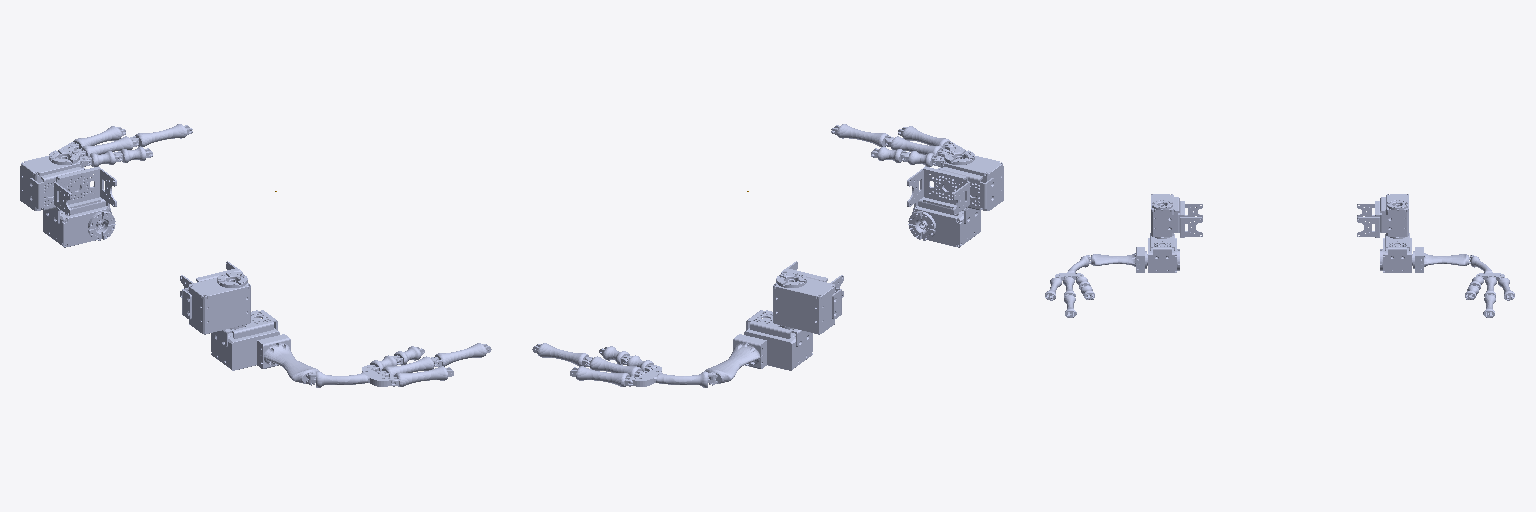
--- Render facts (derived) ---
3 views of the same robot in one strip: view 1: azimuth 30°, elevation 25°; view 2: azimuth 150°, elevation 25°; view 3: azimuth 270°, elevation 25° (orthographic).
Model turtle_assem.SLDASM with 22 links and 21 joints (20 revolute, 1 fixed), rooted at base_footprint, posed all joints at 0.
Links seen in each view (by area): view 1: shoulder_r1, motor2, shoulder_r2, motor3, humerus, finger_1, hand, finger_2_distal, finger_r2_tip, finger_r2_forefinger, finger_r1, finger_2; view 2: motor2, shoulder_r1, motor3, shoulder_r2, shoulder_r3, finger_r1, hand_r, finger_r2_tip, finger_2_distal, finger_2, finger_1, finger_r2_forefinger; view 3: motor2, shoulder_r1, motor3, shoulder_r2, humerus, shoulder_r3.
Link boxes in pixels (box(x1,y1,x2,y2)): shoulder_r1: box(20, 149, 116, 215); motor2: box(180, 261, 250, 334); shoulder_r2: box(43, 191, 115, 247); motor3: box(211, 310, 279, 370); humerus: box(257, 334, 318, 385); finger_1: box(389, 366, 453, 386); hand: box(337, 365, 395, 386); finger_2_distal: box(432, 343, 491, 366); finger_r2_tip: box(130, 124, 192, 146); finger_r2_forefinger: box(75, 136, 138, 156); finger_r1: box(68, 126, 125, 149); finger_2: box(378, 356, 437, 376); motor2: box(907, 149, 1003, 215); shoulder_r1: box(773, 261, 843, 334); motor3: box(908, 191, 980, 247); shoulder_r2: box(744, 310, 812, 370); shoulder_r3: box(705, 334, 766, 385); finger_r1: box(570, 366, 634, 386); hand_r: box(628, 365, 686, 386); finger_r2_tip: box(532, 343, 591, 366); finger_2_distal: box(831, 124, 893, 146); finger_2: box(885, 136, 948, 156); finger_1: box(898, 126, 955, 149); finger_r2_forefinger: box(586, 356, 645, 376); motor2: box(1151, 194, 1202, 238); shoulder_r1: box(1357, 194, 1408, 238); motor3: box(1145, 233, 1179, 272); shoulder_r2: box(1380, 233, 1414, 272); humerus: box(1089, 247, 1144, 272); shoulder_r3: box(1415, 247, 1470, 272).
Bounding box of the posed robot: 0.279 × 0.7069 × 0.0957 m (x, y, z).
Meshes: 21 distinct files referenced, 20 mesh visuals loaded (20 OBJ); not drawn: 1 (reference not matched to a file when rendering).

URDF robot description (turtle_assem.SLDASM):
<?xml version="1.0" encoding="utf-8"?>
<!-- This URDF was automatically created by SolidWorks to URDF Exporter! Originally created by Stephen Brawner ([email redacted]) 
     Commit Version: 1.6.0-4-g7f85cfe  Build Version: 1.6.7995.38578
     For more information, please see http://wiki.ros.org/sw_urdf_exporter -->
<robot
  name="turtle_assem.SLDASM">
<link name="base_footprint">
    <visual>
        <origin xyz="0 0 0" rpy="0 0 0" />
        <geometry>
            <box size="0.001 0.001 0.001" />
        </geometry>
    </visual>
</link>

<joint name="base_footprint_joint" type="fixed">
    <origin xyz="0 0 0.001" rpy="0 0 0" />
    <parent link="base_footprint"/>
    <child link="base_link" />
</joint>
  <link
    name="base_link">
    <inertial>
      <origin
        xyz="-0.139793726521197 3.02888783168269E-05 -0.000965795045126814"
        rpy="0 0 0" />
      <mass
        value="2.00197672334847" />
      <inertia
        ixx="0.00227645142398132"
        ixy="-7.24063312675915E-08"
        ixz="4.6321836014872E-05"
        iyy="0.00582165925853669"
        iyz="-1.13497000154781E-08"
        izz="0.00642229159778174" />
    </inertial>
    <visual>
      <origin
        xyz="0 0 0"
        rpy="0 0 0" />
      <geometry>
        <mesh
          filename="meshes/visual/base_link.obj" />
      </geometry>
      <material
        name="">
        <color
          rgba="0.792156862745098 0.819607843137255 0.933333333333333 1" />
      </material>
    </visual>
    <collision>
      <origin
        xyz="0 0 0"
        rpy="0 0 0" />
      <geometry>
        <mesh
          filename="meshes/visual/base_link.obj" />
      </geometry>
    </collision>
  </link>
  <link
    name="motor2">
    <inertial>
      <origin
        xyz="-0.0424262655289384 -6.85812987433441E-05 -0.0101596852891025"
        rpy="0 0 0" />
      <mass
        value="0.19959000592975" />
      <inertia
        ixx="0.000102253284910249"
        ixy="-1.32510984805803E-16"
        ixz="-1.734362895959E-07"
        iyy="8.76386977156673E-05"
        iyz="7.8494101788163E-07"
        izz="4.30364248461497E-05" />
    </inertial>
    <visual>
      <origin
        xyz="0 0 0"
        rpy="0 0 0" />
      <geometry>
        <mesh
          filename="meshes/visual/motor2.obj" />
      </geometry>
      <material
        name="">
        <color
          rgba="0.792156862745098 0.819607843137255 0.933333333333333 1" />
      </material>
    </visual>
    <collision>
      <origin
        xyz="0 0 0"
        rpy="0 0 0" />
      <geometry>
        <mesh
          filename="meshes/visual/motor2.obj" />
      </geometry>
    </collision>
  </link>
  <joint
    name="shoulder z"
    type="revolute">
    <origin
      xyz="-0.15476 -0.11857 -0.021134"
      rpy="1.5708 0 1.5708" />
    <parent
      link="base_link" />
    <child
      link="motor2" />
    <axis
      xyz="0 0 -1" />
    <limit
      lower="0"
      upper="0"
      effort="0"
      velocity="0" />
  </joint>
  <link
    name="motor3">
    <inertial>
      <origin
        xyz="0.015918980505266 -9.74602204775188E-05 -0.0443741056383084"
        rpy="0 0 0" />
      <mass
        value="0.140448500483326" />
      <inertia
        ixx="2.95730512668569E-05"
        ixy="7.94688346301715E-07"
        ixz="-6.45820265187646E-16"
        iyy="5.57645957313895E-05"
        iyz="1.32512139507554E-16"
        izz="6.70729874856918E-05" />
    </inertial>
    <visual>
      <origin
        xyz="0 0 0"
        rpy="0 0 0" />
      <geometry>
        <mesh
          filename="meshes/visual/motor3.obj" />
      </geometry>
      <material
        name="">
        <color
          rgba="0.792156862745098 0.819607843137255 0.933333333333333 1" />
      </material>
    </visual>
    <collision>
      <origin
        xyz="0 0 0"
        rpy="0 0 0" />
      <geometry>
        <mesh
          filename="meshes/visual/motor3.obj" />
      </geometry>
    </collision>
  </link>
  <joint
    name="shoulder y"
    type="revolute">
    <origin
      xyz="-0.058 -0.000260560176065711 0.000160560176065749"
      rpy="-1.5707963267949 -1.5707963267949 0" />
    <parent
      link="motor2" />
    <child
      link="motor3" />
    <axis
      xyz="0 0 -1" />
    <limit
      lower="0"
      upper="0"
      effort="0"
      velocity="0" />
  </joint>
  <link
    name="humerus">
    <inertial>
      <origin
        xyz="-2.09604651635331E-07 -4.14201045291496E-06 -0.0577417238356416"
        rpy="0 0 0" />
      <mass
        value="0.0297093647993242" />
      <inertia
        ixx="2.19135183187944E-05"
        ixy="1.58992758201897E-10"
        ixz="-4.83789905888679E-10"
        iyy="2.29080017285897E-05"
        iyz="-6.32678182519546E-09"
        izz="3.01863714360775E-06" />
    </inertial>
    <visual>
      <origin
        xyz="0 0 0"
        rpy="0 0 0" />
      <geometry>
        <mesh
          filename="meshes/visual/humerus.obj" />
      </geometry>
      <material
        name="">
        <color
          rgba="0.796078431372549 0.823529411764706 0.937254901960784 1" />
      </material>
    </visual>
    <collision>
      <origin
        xyz="0 0 0"
        rpy="0 0 0" />
      <geometry>
        <mesh
          filename="meshes/visual/humerus.obj" />
      </geometry>
    </collision>
  </link>
  <joint
    name="shoulder x"
    type="revolute">
    <origin
      xyz="0.031 -0.000260560176065627 -0.0522394398239343"
      rpy="1.5707963267949 0 -3.14159265358979" />
    <parent
      link="motor3" />
    <child
      link="humerus" />
    <axis
      xyz="0 0 -1" />
    <limit
      lower="0"
      upper="0"
      effort="0"
      velocity="0" />
  </joint>
  <link
    name="forearm">
    <inertial>
      <origin
        xyz="-0.0104556538387043 -0.00732106376965685 -0.00103994965613724"
        rpy="0 0 0" />
      <mass
        value="0.00321747849832593" />
      <inertia
        ixx="1.18261404745199E-07"
        ixy="-6.23743859697054E-08"
        ixz="5.16619482245768E-09"
        iyy="1.63668329624826E-07"
        iyz="3.61598163135351E-09"
        izz="1.95759827683889E-07" />
    </inertial>
    <visual>
      <origin
        xyz="0 0 0"
        rpy="0 0 0" />
      <geometry>
        <mesh
          filename="meshes/visual/forearm.obj" />
      </geometry>
      <material
        name="">
        <color
          rgba="0.796078431372549 0.823529411764706 0.937254901960784 1" />
      </material>
    </visual>
    <collision>
      <origin
        xyz="0 0 0"
        rpy="0 0 0" />
      <geometry>
        <mesh
          filename="meshes/visual/forearm.obj" />
      </geometry>
    </collision>
  </link>
  <joint
    name="elbow"
    type="revolute">
    <origin
      xyz="0 -0.000900000000000414 -0.111663439823934"
      rpy="1.57079632679489 0 0" />
    <parent
      link="humerus" />
    <child
      link="forearm" />
    <axis
      xyz="0 0 -1" />
    <limit
      lower="0"
      upper="0"
      effort="0"
      velocity="0" />
  </joint>
  <link
    name="hand">
    <inertial>
      <origin
        xyz="0.0080306069427552 2.33292050463019E-05 0.029798536307319"
        rpy="0 0 0" />
      <mass
        value="0.007458869784901" />
      <inertia
        ixx="1.52002275996681E-06"
        ixy="-6.59703378789213E-10"
        ixz="-1.16207829775553E-07"
        iyy="2.04366986037998E-06"
        iyz="-1.01722400777519E-09"
        izz="5.96155881516618E-07" />
    </inertial>
    <visual>
      <origin
        xyz="0 0 0"
        rpy="0 0 0" />
      <geometry>
        <mesh
          filename="meshes/visual/hand.obj" />
      </geometry>
      <material
        name="">
        <color
          rgba="0.796078431372549 0.823529411764706 0.937254901960784 1" />
      </material>
    </visual>
    <collision>
      <origin
        xyz="0 0 0"
        rpy="0 0 0" />
      <geometry>
        <mesh
          filename="meshes/visual/hand.obj" />
      </geometry>
    </collision>
  </link>
  <joint
    name="forearm twist"
    type="revolute">
    <origin
      xyz="-0.0225271689707654 -0.0157726554164387 -0.000875052936502335"
      rpy="-1.5707963267949 0 2.18166156499291" />
    <parent
      link="forearm" />
    <child
      link="hand" />
    <axis
      xyz="0 0 -1" />
    <limit
      lower="0"
      upper="0"
      effort="0"
      velocity="0" />
  </joint>
  <link
    name="finger_1">
    <inertial>
      <origin
        xyz="-0.0321164818789987 1.08442855335789E-06 -5.17289318728853E-05"
        rpy="0 0 0" />
      <mass
        value="0.00815897503529205" />
      <inertia
        ixx="1.87780898922872E-07"
        ixy="2.71364849759439E-10"
        ixz="1.82790332131999E-08"
        iyy="3.11059490382985E-06"
        iyz="1.18025458925446E-11"
        izz="3.08309120489149E-06" />
    </inertial>
    <visual>
      <origin
        xyz="0 0 0"
        rpy="0 0 0" />
      <geometry>
        <mesh
          filename="meshes/visual/finger_1.obj" />
      </geometry>
      <material
        name="">
        <color
          rgba="0.796078431372549 0.823529411764706 0.937254901960784 1" />
      </material>
    </visual>
    <collision>
      <origin
        xyz="0 0 0"
        rpy="0 0 0" />
      <geometry>
        <mesh
          filename="meshes/visual/finger_1.obj" />
      </geometry>
    </collision>
  </link>
  <joint
    name="finger_pinky"
    type="revolute">
    <origin
      xyz="0.00321549122081088 2.49470634976906E-05 0.0577433280816197"
      rpy="-3.14159265358976 1.13186331409036 -3.14159265358976" />
    <parent
      link="hand" />
    <child
      link="finger_1" />
    <axis
      xyz="0 0 -1" />
    <limit
      lower="0"
      upper="0"
      effort="0"
      velocity="0" />
  </joint>
  <link
    name="finger_2">
    <inertial>
      <origin
        xyz="-0.0321166531944218 1.08256056374767E-06 -5.16411525376403E-05"
        rpy="0 0 0" />
      <mass
        value="0.0081590932001358" />
      <inertia
        ixx="1.87785546000215E-07"
        ixy="2.69838531716313E-10"
        ixz="1.82937643823131E-08"
        iyy="3.11063635201715E-06"
        iyz="1.1856166063233E-11"
        izz="3.08312138570173E-06" />
    </inertial>
    <visual>
      <origin
        xyz="0 0 0"
        rpy="0 0 0" />
      <geometry>
        <mesh
          filename="meshes/visual/finger_2.obj" />
      </geometry>
      <material
        name="">
        <color
          rgba="0.796078431372549 0.823529411764706 0.937254901960784 1" />
      </material>
    </visual>
    <collision>
      <origin
        xyz="0 0 0"
        rpy="0 0 0" />
      <geometry>
        <mesh
          filename="meshes/visual/finger_2.obj" />
      </geometry>
    </collision>
  </link>
  <joint
    name="finger_middle"
    type="revolute">
    <origin
      xyz="0.0164868587195784 2.49470634976073E-05 0.0455536453363703"
      rpy="-3.14159265358977 0.93746386773365 -3.14159265358977" />
    <parent
      link="hand" />
    <child
      link="finger_2" />
    <axis
      xyz="0 0 -1" />
    <limit
      lower="0"
      upper="0"
      effort="0"
      velocity="0" />
  </joint>
  <link
    name="finger_2_distal">
    <inertial>
      <origin
        xyz="-0.0322166553312513 5.16422163291397E-05 1.0825842174933E-06"
        rpy="0 0 0" />
      <mass
        value="0.00815890339458729" />
      <inertia
        ixx="1.87777667518928E-07"
        ixy="-1.82749844267169E-08"
        ixz="2.70942096550549E-10"
        iyy="3.08306155456235E-06"
        iyz="-1.12923456759871E-11"
        izz="3.11057086738207E-06" />
    </inertial>
    <visual>
      <origin
        xyz="0 0 0"
        rpy="0 0 0" />
      <geometry>
        <mesh
          filename="meshes/visual/finger_2_distal.obj" />
      </geometry>
      <material
        name="">
        <color
          rgba="0.796078431372549 0.823529411764706 0.937254901960784 1" />
      </material>
    </visual>
    <collision>
      <origin
        xyz="0 0 0"
        rpy="0 0 0" />
      <geometry>
        <mesh
          filename="meshes/visual/finger_2_distal.obj" />
      </geometry>
    </collision>
  </link>
  <joint
    name="finger_2_knuckle"
    type="revolute">
    <origin
      xyz="-0.0641619999999999 0 0"
      rpy="-1.5707963267949 0 0" />
    <parent
      link="finger_2" />
    <child
      link="finger_2_distal" />
    <axis
      xyz="0 -1 0" />
    <limit
      lower="0"
      upper="0"
      effort="0"
      velocity="0" />
  </joint>
  <link
    name="thumb">
    <inertial>
      <origin
        xyz="0.0170956470251904 1.95594878975303E-06 9.33741808846755E-05"
        rpy="0 0 0" />
      <mass
        value="0.00453338029872171" />
      <inertia
        ixx="1.17247307878083E-07"
        ixy="-1.51177320829881E-10"
        ixz="9.9145615557784E-09"
        iyy="4.53844340522962E-07"
        iyz="-1.47050543812107E-11"
        izz="4.29002691091127E-07" />
    </inertial>
    <visual>
      <origin
        xyz="0 0 0"
        rpy="0 0 0" />
      <geometry>
        <mesh
          filename="meshes/visual/thumb.obj" />
      </geometry>
      <material
        name="">
        <color
          rgba="0.796078431372549 0.823529411764706 0.937254901960784 1" />
      </material>
    </visual>
    <collision>
      <origin
        xyz="0 0 0"
        rpy="0 0 0" />
      <geometry>
        <mesh
          filename="meshes/visual/thumb.obj" />
      </geometry>
    </collision>
  </link>
  <joint
    name="finger_3"
    type="revolute">
    <origin
      xyz="0.0298430737694715 2.49470634975518E-05 0.0331455878511042"
      rpy="0 -0.74795067637548 0" />
    <parent
      link="hand" />
    <child
      link="thumb" />
    <axis
      xyz="0 0 -1" />
    <limit
      lower="0"
      upper="0"
      effort="0"
      velocity="0" />
  </joint>
  <link
    name="thumb_2">
    <inertial>
      <origin
        xyz="0.0170956470251904 1.95594878975303E-06 9.33741808848421E-05"
        rpy="0 0 0" />
      <mass
        value="0.00453338029872172" />
      <inertia
        ixx="1.17247307878084E-07"
        ixy="-1.51177320829554E-10"
        ixz="9.91456155577994E-09"
        iyy="4.53844340522963E-07"
        iyz="-1.47050543813262E-11"
        izz="4.29002691091128E-07" />
    </inertial>
    <visual>
      <origin
        xyz="0 0 0"
        rpy="0 0 0" />
      <geometry>
        <mesh
          filename="meshes/visual/thumb_2.obj" />
      </geometry>
      <material
        name="">
        <color
          rgba="0.796078431372549 0.823529411764706 0.937254901960784 1" />
      </material>
    </visual>
    <collision>
      <origin
        xyz="0 0 0"
        rpy="0 0 0" />
      <geometry>
        <mesh
          filename="meshes/visual/thumb_2.obj" />
      </geometry>
    </collision>
  </link>
  <joint
    name="thumb"
    type="revolute">
    <origin
      xyz="0.034036 0 0"
      rpy="0 0 0" />
    <parent
      link="thumb" />
    <child
      link="thumb_2" />
    <axis
      xyz="0 0 -1" />
    <limit
      lower="0"
      upper="0"
      effort="0"
      velocity="0" />
  </joint>
  <link
    name="shoulder_r1">
    <inertial>
      <origin
        xyz="0.0424262654171467 -6.85811121932701E-05 -0.0101596853630267"
        rpy="0 0 0" />
      <mass
        value="0.19959000449621" />
      <inertia
        ixx="0.000102253284900643"
        ixy="-9.56787865680847E-17"
        ixz="1.73436290753627E-07"
        iyy="8.76386977010701E-05"
        iyz="7.84941017503155E-07"
        izz="4.30364248359425E-05" />
    </inertial>
    <visual>
      <origin
        xyz="0 0 0"
        rpy="0 0 0" />
      <geometry>
        <mesh
          filename="meshes/visual/shoulder_r1.obj" />
      </geometry>
      <material
        name="">
        <color
          rgba="0.792156862745098 0.819607843137255 0.933333333333333 1" />
      </material>
    </visual>
    <collision>
      <origin
        xyz="0 0 0"
        rpy="0 0 0" />
      <geometry>
        <mesh
          filename="meshes/visual/shoulder_r1.obj" />
      </geometry>
    </collision>
  </link>
  <joint
    name="shoulder_ry"
    type="revolute">
    <origin
      xyz="-0.154760560176066 0.118569823203537 -0.0211344494681455"
      rpy="1.5707963267949 0 1.5707963267949" />
    <parent
      link="base_link" />
    <child
      link="shoulder_r1" />
    <axis
      xyz="0 0 -1" />
    <limit
      lower="0"
      upper="0"
      effort="0"
      velocity="0" />
  </joint>
  <link
    name="shoulder_r2">
    <inertial>
      <origin
        xyz="0.0159189803516203 9.74599556677058E-05 -0.0443741055579348"
        rpy="0 0 0" />
      <mass
        value="0.140448499049786" />
      <inertia
        ixx="2.95730512566497E-05"
        ixy="-7.94688345923253E-07"
        ixz="5.11899451731221E-16"
        iyy="5.57645957167924E-05"
        iyz="9.56784445514042E-17"
        izz="6.7072987476086E-05" />
    </inertial>
    <visual>
      <origin
        xyz="0 0 0"
        rpy="0 0 0" />
      <geometry>
        <mesh
          filename="meshes/visual/shoulder_r2.obj" />
      </geometry>
      <material
        name="">
        <color
          rgba="0.792156862745098 0.819607843137255 0.933333333333333 1" />
      </material>
    </visual>
    <collision>
      <origin
        xyz="0 0 0"
        rpy="0 0 0" />
      <geometry>
        <mesh
          filename="meshes/visual/shoulder_r2.obj" />
      </geometry>
    </collision>
  </link>
  <joint
    name="shoulder_rz"
    type="revolute">
    <origin
      xyz="0.058 -0.000260560176065724 0.000160560176065749"
      rpy="-1.5707963267949 -1.5707963267949 0" />
    <parent
      link="shoulder_r1" />
    <child
      link="shoulder_r2" />
    <axis
      xyz="0 0 -1" />
    <limit
      lower="0"
      upper="0"
      effort="0"
      velocity="0" />
  </joint>
  <link
    name="shoulder_r3">
    <inertial>
      <origin
        xyz="3.27456432372419E-07 -4.14696846921803E-06 -0.0577417355114785"
        rpy="0 0 0" />
      <mass
        value="0.0297091645234955" />
      <inertia
        ixx="2.19135130479917E-05"
        ixy="1.25157927054316E-10"
        ixz="4.8317726684715E-10"
        iyy="2.29079692879455E-05"
        iyz="-6.31772969915111E-09"
        izz="3.01861472370875E-06" />
    </inertial>
    <visual>
      <origin
        xyz="0 0 0"
        rpy="0 0 0" />
      <geometry>
        <mesh
          filename="meshes/visual/shoulder_r3.obj" />
      </geometry>
      <material
        name="">
        <color
          rgba="0.796078431372549 0.823529411764706 0.937254901960784 1" />
      </material>
    </visual>
    <collision>
      <origin
        xyz="0 0 0"
        rpy="0 0 0" />
      <geometry>
        <mesh
          filename="meshes/visual/shoulder_r3.obj" />
      </geometry>
    </collision>
  </link>
  <joint
    name="shoulder_rx"
    type="revolute">
    <origin
      xyz="0.031 0.000260560176067987 -0.052239439823933"
      rpy="1.5707963267949 0 0" />
    <parent
      link="shoulder_r2" />
    <child
      link="shoulder_r3" />
    <axis
      xyz="0 0 -1" />
    <limit
      lower="0"
      upper="0"
      effort="0"
      velocity="0" />
  </joint>
  <link
    name="ulna_r">
    <inertial>
      <origin
        xyz="-0.0104556491841718 0.00732106854972991 -0.00103994296000072"
        rpy="0 0 0" />
      <mass
        value="0.00321749884978111" />
      <inertia
        ixx="1.18261842657792E-07"
        ixy="6.23743689609513E-08"
        ixz="5.16630526874817E-09"
        iyy="1.63668185637303E-07"
        iyz="-3.61549592545712E-09"
        izz="1.95760395640948E-07" />
    </inertial>
    <visual>
      <origin
        xyz="0 0 0"
        rpy="0 0 0" />
      <geometry>
        <mesh
          filename="meshes/visual/ulna_r.obj" />
      </geometry>
      <material
        name="">
        <color
          rgba="0.796078431372549 0.823529411764706 0.937254901960784 1" />
      </material>
    </visual>
    <collision>
      <origin
        xyz="0 0 0"
        rpy="0 0 0" />
      <geometry>
        <mesh
          filename="meshes/visual/ulna_r.obj" />
      </geometry>
    </collision>
  </link>
  <joint
    name="elbow_r"
    type="revolute">
    <origin
      xyz="0 -0.000900000000001677 -0.111663439823932"
      rpy="-1.5707963267949 0 3.14159265358978" />
    <parent
      link="shoulder_r3" />
    <child
      link="ulna_r" />
    <axis
      xyz="0 0 -1" />
    <limit
      lower="0"
      upper="0"
      effort="0"
      velocity="0" />
  </joint>
  <link
    name="hand_r">
    <inertial>
      <origin
        xyz="-0.00803055857311785 2.35846749753188E-05 0.0297983745213872"
        rpy="0 0 0" />
      <mass
        value="0.00745892050422844" />
      <inertia
        ixx="1.52005445910032E-06"
        ixy="6.58512346300275E-10"
        ixz="1.16213218022766E-07"
        iyy="2.04371159015803E-06"
        iyz="-1.01026459924081E-09"
        izz="5.96166133107483E-07" />
    </inertial>
    <visual>
      <origin
        xyz="0 0 0"
        rpy="0 0 0" />
      <geometry>
        <mesh
          filename="meshes/visual/hand_r.obj" />
      </geometry>
      <material
        name="">
        <color
          rgba="0.796078431372549 0.823529411764706 0.937254901960784 1" />
      </material>
    </visual>
    <collision>
      <origin
        xyz="0 0 0"
        rpy="0 0 0" />
      <geometry>
        <mesh
          filename="meshes/visual/hand_r.obj" />
      </geometry>
    </collision>
  </link>
  <joint
    name="forearm_twist_r"
    type="revolute">
    <origin
      xyz="-0.0225271720364629 0.0157726510381686 -0.000874854468572259"
      rpy="-1.5707963267949 0 0.959931088596884" />
    <parent
      link="ulna_r" />
    <child
      link="hand_r" />
    <axis
      xyz="0 0 -1" />
    <limit
      lower="0"
      upper="0"
      effort="0"
      velocity="0" />
  </joint>
  <link
    name="finger_r1">
    <inertial>
      <origin
        xyz="0.0321167981533025 1.07840943186499E-06 -0.000951720191340433"
        rpy="0 0 0" />
      <mass
        value="0.00815898286185356" />
      <inertia
        ixx="1.87781732284952E-07"
        ixy="-3.0045767465358E-10"
        ixz="-1.82853031731432E-08"
        iyy="3.11059784372465E-06"
        iyz="9.88073689189033E-12"
        izz="3.08309221107737E-06" />
    </inertial>
    <visual>
      <origin
        xyz="0 0 0"
        rpy="0 0 0" />
      <geometry>
        <mesh
          filename="meshes/visual/finger_r1.obj" />
      </geometry>
      <material
        name="">
        <color
          rgba="0.796078431372549 0.823529411764706 0.937254901960784 1" />
      </material>
    </visual>
    <collision>
      <origin
        xyz="0 0 0"
        rpy="0 0 0" />
      <geometry>
        <mesh
          filename="meshes/visual/finger_r1.obj" />
      </geometry>
    </collision>
  </link>
  <joint
    name="finger_r1_joint"
    type="revolute">
    <origin
      xyz="-0.00403017093403751 2.51455314277116E-05 0.0573608516037848"
      rpy="-3.14159265358976 -1.13186331409036 3.14159265358976" />
    <parent
      link="hand_r" />
    <child
      link="finger_r1" />
    <axis
      xyz="0 0 -1" />
    <limit
      lower="0"
      upper="0"
      effort="0"
      velocity="0" />
  </joint>
  <link
    name="finger_r2_forefinger">
    <inertial>
      <origin
        xyz="0.0321163881676197 1.0756204928547E-06 -0.000951556455045799"
        rpy="0 0 0" />
      <mass
        value="0.00815899952744804" />
      <inertia
        ixx="1.87781770220231E-07"
        ixy="-3.00514189068178E-10"
        ixz="-1.82943350074824E-08"
        iyy="3.11060255601416E-06"
        iyz="1.21920609514125E-11"
        izz="3.08309035611226E-06" />
    </inertial>
    <visual>
      <origin
        xyz="0 0 0"
        rpy="0 0 0" />
      <geometry>
        <mesh
          filename="meshes/visual/finger_r2_forefinger.obj" />
      </geometry>
      <material
        name="">
        <color
          rgba="0.796078431372549 0.823529411764706 0.937254901960784 1" />
      </material>
    </visual>
    <collision>
      <origin
        xyz="0 0 0"
        rpy="0 0 0" />
      <geometry>
        <mesh
          filename="meshes/visual/finger_r2_forefinger.obj" />
      </geometry>
    </collision>
  </link>
  <joint
    name="finger2_knuckle"
    type="revolute">
    <origin
      xyz="-0.0172123071267262 2.51455314276422E-05 0.0450209945561512"
      rpy="-3.14159265358977 -0.937463867733647 3.14159265358977" />
    <parent
      link="hand_r" />
    <child
      link="finger_r2_forefinger" />
    <axis
      xyz="0 0 -1" />
    <limit
      lower="0"
      upper="0"
      effort="0"
      velocity="0" />
  </joint>
  <link
    name="finger_r2_tip">
    <inertial>
      <origin
        xyz="0.0322165834116033 1.07688204885326E-06 -0.000951644601507207"
        rpy="0 0 0" />
      <mass
        value="0.00815909425188955" />
      <inertia
        ixx="1.87785595746044E-07"
        ixy="-3.00914386749484E-10"
        ixz="-1.82845267812728E-08"
        iyy="3.1106354092634E-06"
        iyz="1.21456918046076E-11"
        izz="3.08311916688134E-06" />
    </inertial>
    <visual>
      <origin
        xyz="0 0 0"
        rpy="0 0 0" />
      <geometry>
        <mesh
          filename="meshes/visual/finger_r2_tip.obj" />
      </geometry>
      <material
        name="">
        <color
          rgba="0.796078431372549 0.823529411764706 0.937254901960784 1" />
      </material>
    </visual>
    <collision>
      <origin
        xyz="0 0 0"
        rpy="0 0 0" />
      <geometry>
        <mesh
          filename="meshes/visual/finger_r2_tip.obj" />
      </geometry>
    </collision>
  </link>
  <joint
    name="finger_r2_mid_knuckle"
    type="revolute">
    <origin
      xyz="0.064162 0 0"
      rpy="0 0 0" />
    <parent
      link="finger_r2_forefinger" />
    <child
      link="finger_r2_tip" />
    <axis
      xyz="0 0 -1" />
    <limit
      lower="0"
      upper="0"
      effort="0"
      velocity="0" />
  </joint>
  <link
    name="finger_r3_forefinger">
    <inertial>
      <origin
        xyz="0.0169956268054621 1.95251036801125E-06 -0.000993374880048525"
        rpy="0 0 0" />
      <mass
        value="0.00453337868564086" />
      <inertia
        ixx="1.17247321694371E-07"
        ixy="-1.49861042339236E-10"
        ixz="-9.91406514531449E-09"
        iyy="4.53844202255298E-07"
        iyz="1.47530775181334E-11"
        izz="4.29002571368356E-07" />
    </inertial>
    <visual>
      <origin
        xyz="0 0 0"
        rpy="0 0 0" />
      <geometry>
        <mesh
          filename="meshes/visual/finger_r3_forefinger.obj" />
      </geometry>
      <material
        name="">
        <color
          rgba="0.796078431372549 0.823529411764706 0.937254901960784 1" />
      </material>
    </visual>
    <collision>
      <origin
        xyz="0 0 0"
        rpy="0 0 0" />
      <geometry>
        <mesh
          filename="meshes/visual/finger_r3_forefinger.obj" />
      </geometry>
    </collision>
  </link>
  <joint
    name="finger_r3_knuckle"
    type="revolute">
    <origin
      xyz="-0.0305285009237736 2.51455314275867E-05 0.0325538258304707"
      rpy="-3.14159265358978 -0.747950676375482 3.14159265358978" />
    <parent
      link="hand_r" />
    <child
      link="finger_r3_forefinger" />
    <axis
      xyz="0 0 -1" />
    <limit
      lower="0"
      upper="0"
      effort="0"
      velocity="0" />
  </joint>
  <link
    name="finger_r3_tip">
    <inertial>
      <origin
        xyz="0.0170956268054623 1.95251036802513E-06 -0.00099337488004847"
        rpy="0 0 0" />
      <mass
        value="0.00453337868564088" />
      <inertia
        ixx="1.17247321694371E-07"
        ixy="-1.49861042338231E-10"
        ixz="-9.91406514531456E-09"
        iyy="4.53844202255299E-07"
        iyz="1.47530775176972E-11"
        izz="4.29002571368358E-07" />
    </inertial>
    <visual>
      <origin
        xyz="0 0 0"
        rpy="0 0 0" />
      <geometry>
        <mesh
          filename="meshes/visual/finger_r3_tip.obj" />
      </geometry>
      <material
        name="">
        <color
          rgba="0.796078431372549 0.823529411764706 0.937254901960784 1" />
      </material>
    </visual>
    <collision>
      <origin
        xyz="0 0 0"
        rpy="0 0 0" />
      <geometry>
        <mesh
          filename="meshes/visual/finger_r3_tip.obj" />
      </geometry>
    </collision>
  </link>
  <joint
    name="finger_r3_distal_knuckle"
    type="revolute">
    <origin
      xyz="0.0339359999999999 0 0"
      rpy="0 0 0" />
    <parent
      link="finger_r3_forefinger" />
    <child
      link="finger_r3_tip" />
    <axis
      xyz="0 0 -1" />
    <limit
      lower="0"
      upper="0"
      effort="0"
      velocity="0" />
  </joint>
</robot>
